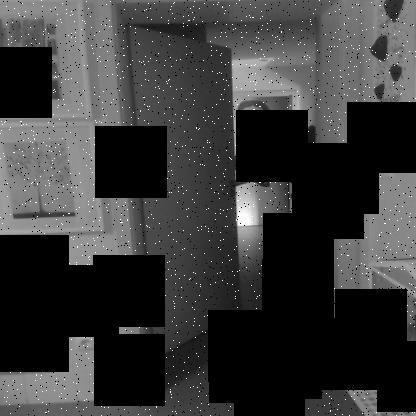Porte: (97, 0, 361, 404)
